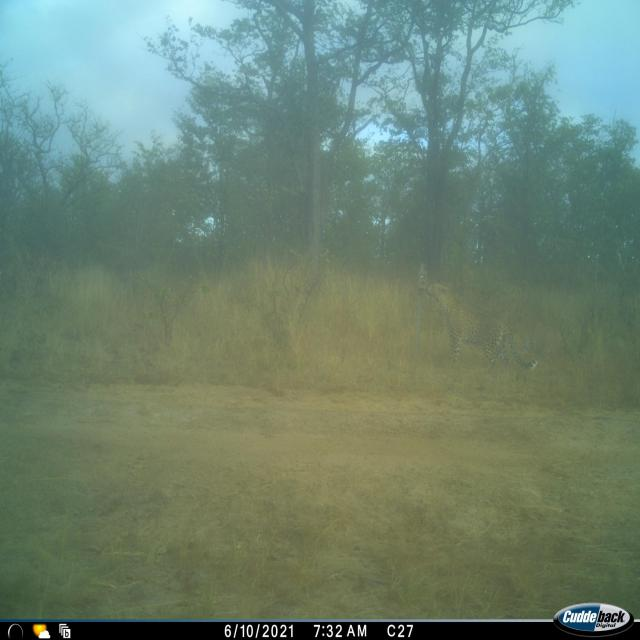Leopard: (424, 280, 536, 372)
